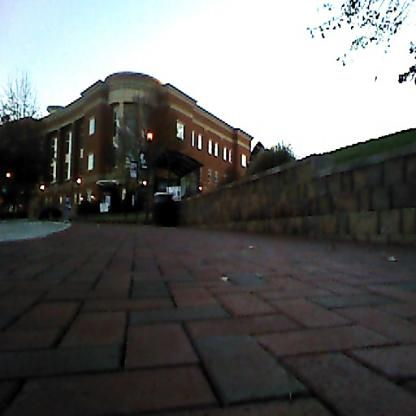Edge: (228, 218, 416, 269)
Sidewalk: (0, 227, 416, 416)
